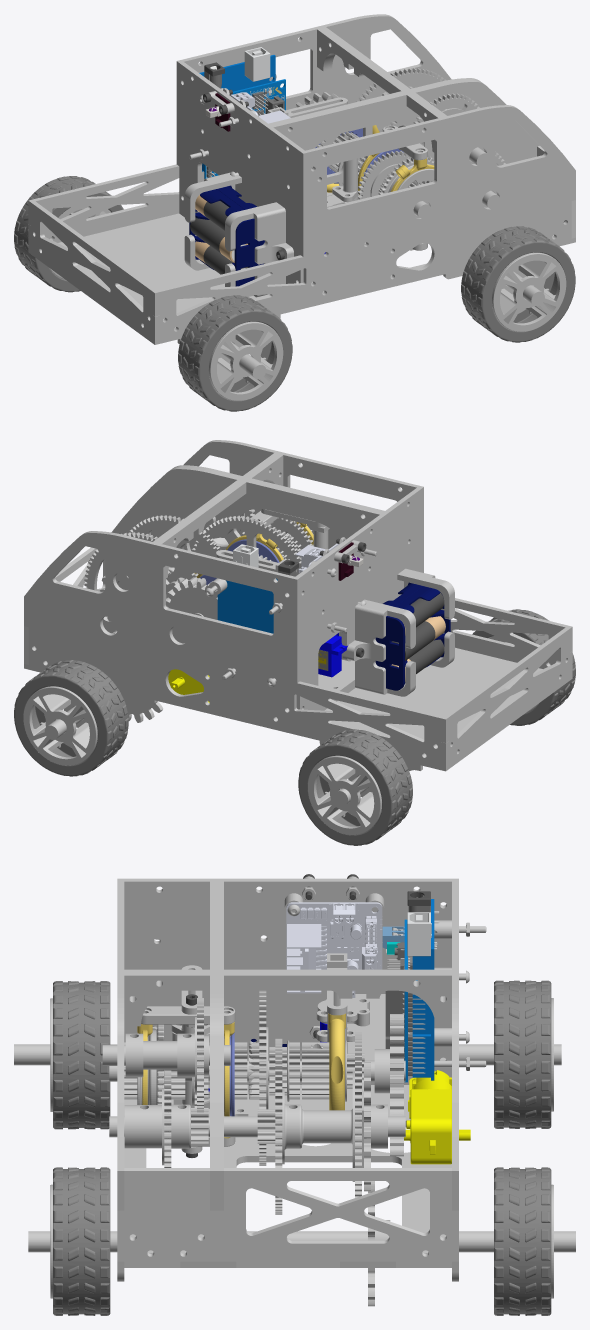
Rendered from george_mobile.glb.
3 views of the same model, one above another, from view 1: azimuth 30°, elevation 25°; view 2: azimuth 150°, elevation 25°; view 3: azimuth 270°, elevation 25° (orthographic). The views are drawn at different scales.
Parts seen in each view (by area): view 1: Node16, Node9, Node7, Node18, Node31, Node47, Node48, Node38, Node15, Node1, Node2, Node43 (+6 smaller); view 2: Node16, Node9, Node18, Node7, Node31, Node47, Node38, Node48, Node19, Node2, Node3, Node22 (+4 smaller); view 3: Node7, Node16, Node22, Node18, Node9, Node31, Node1, Node5, Node17, Node32, Node51, Node38 (+11 smaller).
Boxes of the visible parts, x1,y1,x2,y2 form: Node16: (28,14,575,363); Node9: (28,25,449,337); Node7: (14,69,575,411); Node18: (28,78,575,344); Node31: (49,88,566,400); Node47: (189,185,264,286); Node48: (190,89,405,274); Node38: (199,55,275,171); Node15: (305,97,423,199); Node1: (358,93,505,207); Node2: (355,68,445,183); Node43: (244,47,270,81); Node16: (24,440,572,775); Node9: (112,451,572,764); Node18: (24,465,572,771); Node7: (14,565,575,845); Node31: (23,508,539,835); Node47: (375,582,450,690); Node38: (217,578,277,633); Node48: (319,538,444,673); Node19: (191,515,301,574); Node2: (84,532,200,642); Node3: (101,515,219,589); Node22: (24,547,105,664); Node7: (53,897,551,1315); Node16: (102,876,458,1281); Node22: (117,1168,458,1267); Node18: (117,878,458,1267); Node9: (117,893,486,1306); Node31: (14,887,575,1298); Node1: (124,998,208,1165); Node5: (164,1062,387,1181); Node17: (286,902,382,993); Node32: (404,1070,470,1164); Node51: (137,1013,345,1138); Node38: (412,899,434,1080).
Size of the model in its own units: 298 by 151 by 255.
